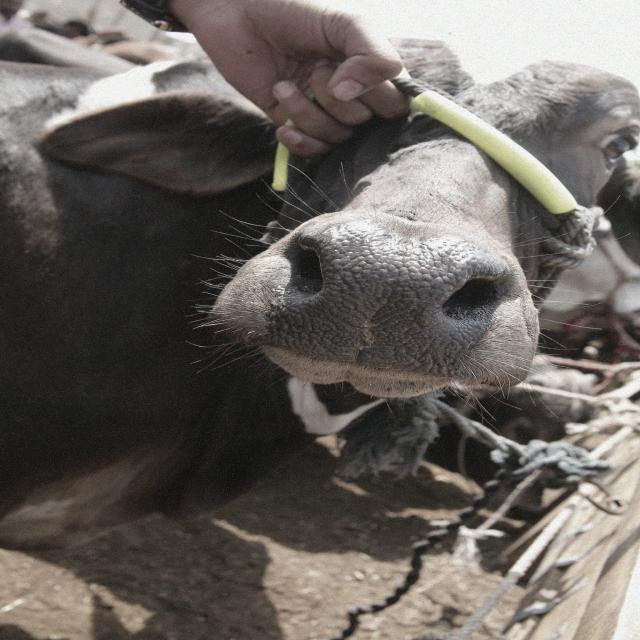muzzles: (269, 218, 528, 382)
